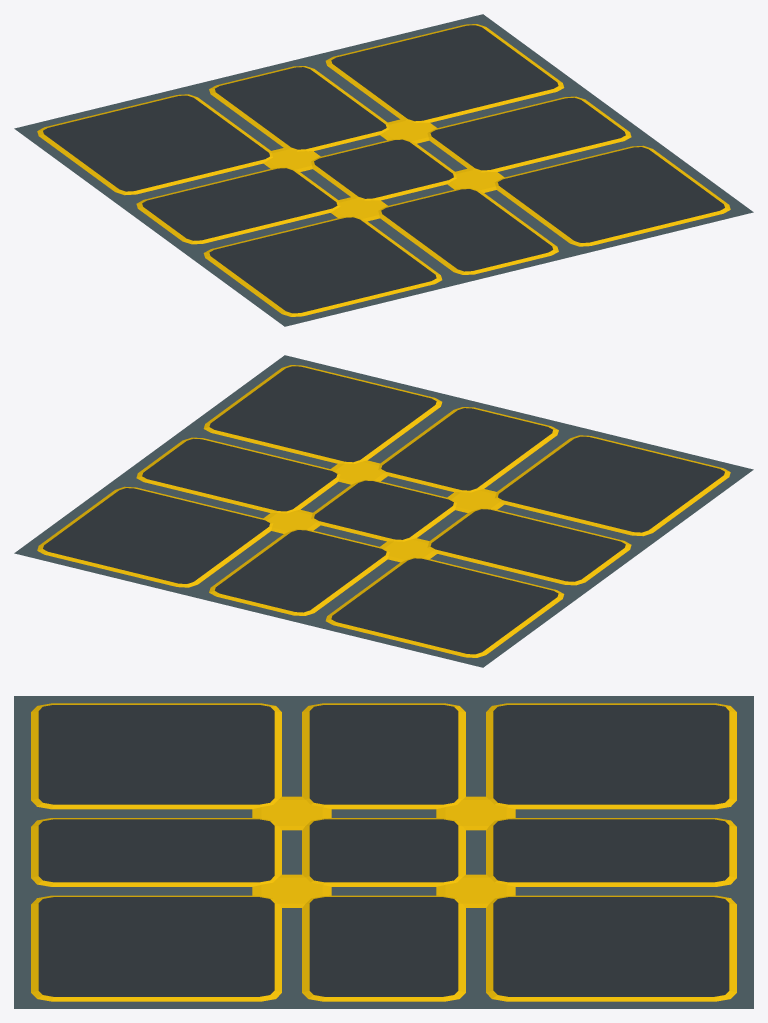
The model's file is Floor_type_C_014.fbx.
3 views of the same model, one above another, from view 1: azimuth 30°, elevation 25°; view 2: azimuth 150°, elevation 25°; view 3: azimuth 270°, elevation 25° (orthographic). The views are drawn at different scales.
Parts seen in each view (by area): view 1: Floor_type_C_014; view 2: Floor_type_C_014; view 3: Floor_type_C_014.
Boxes of the visible parts, left/top/right/bottom form: Floor_type_C_014: left=14, top=14, right=753, bottom=326; Floor_type_C_014: left=14, top=355, right=753, bottom=667; Floor_type_C_014: left=14, top=696, right=753, bottom=1008.
Size of the model in its own units: 400 by 400 by 1.34.
